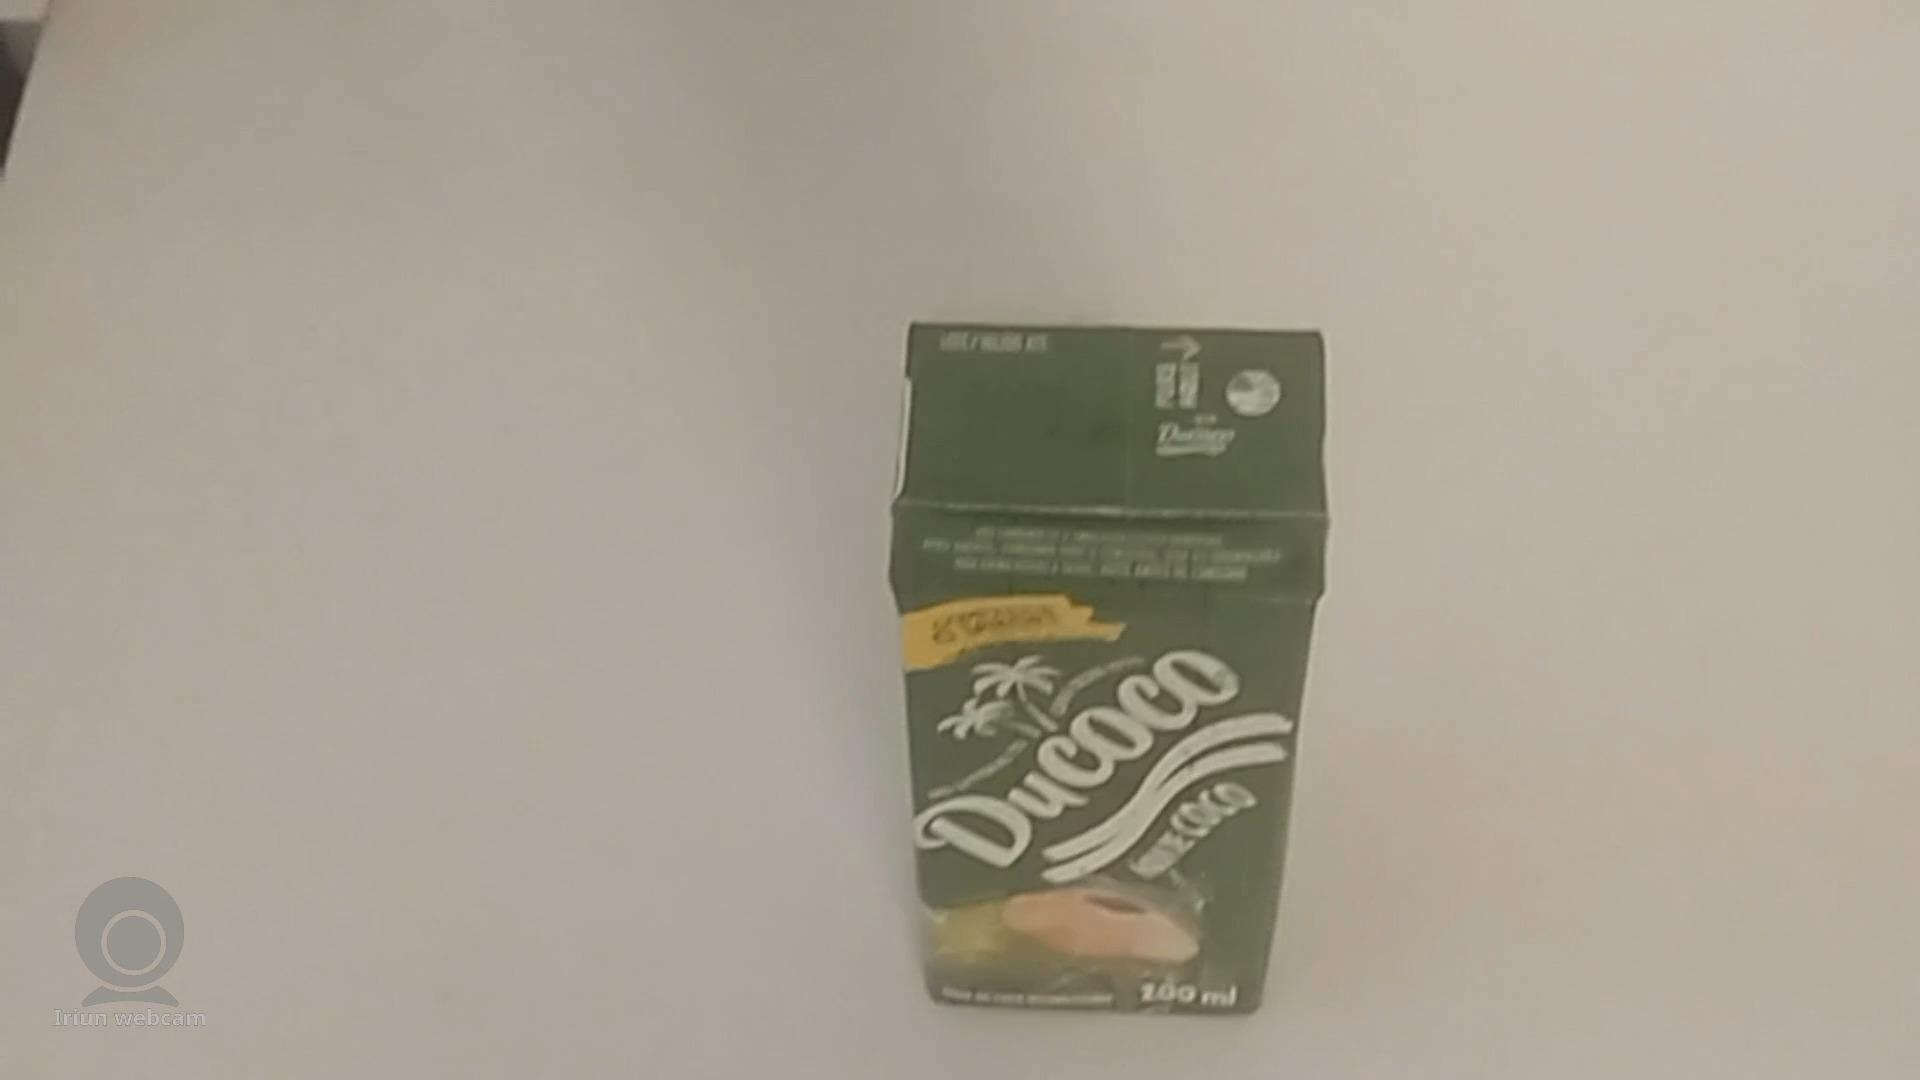coco: (890, 318, 1331, 1044)
